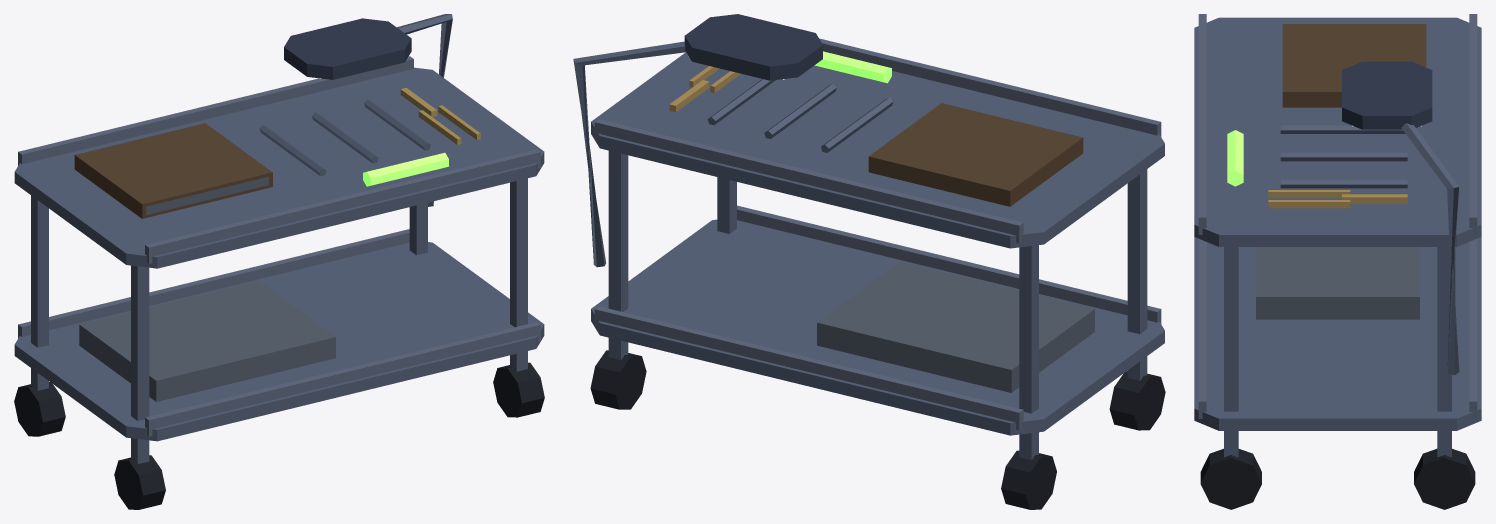
The model's file is res_instrument_trolley.glb.
3 renders of one model, left to right at view 1: azimuth 30°, elevation 25°; view 2: azimuth 150°, elevation 25°; view 3: azimuth 270°, elevation 25°, orthographic. The views are drawn at different scales.
Visible parts, largest first — view 1: diagnostic_probe, tray_raised_lip, folded_towel, book_binding, castor, task_lamp, sealed_sample, tuning_fork_prong; view 2: diagnostic_probe, tray_raised_lip, folded_towel, book_binding, castor, task_lamp, sealed_sample, tuning_fork_prong; view 3: diagnostic_probe, folded_towel, book_binding, tray_raised_lip, castor, task_lamp, tuning_fork_prong, sealed_sample.
Boxes of the visible parts, x1,y1,x2,y2 form: diagnostic_probe: (14,14,544,463); tray_raised_lip: (18,56,540,436); folded_towel: (79,176,335,401); book_binding: (74,123,272,218); castor: (14,362,544,509); task_lamp: (284,18,411,79); sealed_sample: (363,152,448,186); tuning_fork_prong: (400,87,480,144); diagnostic_probe: (573,41,1164,460); tray_raised_lip: (594,38,1161,430); folded_towel: (817,261,1094,392); book_binding: (868,103,1083,206); castor: (590,350,1165,509); task_lamp: (684,14,822,80); sealed_sample: (814,51,891,83); tuning_fork_prong: (669,66,740,112); diagnostic_probe: (1194,17,1481,457); folded_towel: (1256,247,1419,319); book_binding: (1282,24,1426,107); tray_raised_lip: (1198,14,1477,418); castor: (1200,448,1475,509); task_lamp: (1342,61,1432,129); tuning_fork_prong: (1268,190,1407,208); sealed_sample: (1227,130,1243,186).
Bounding box in the file's own units: 1.4 × 1.05 × 0.75.
